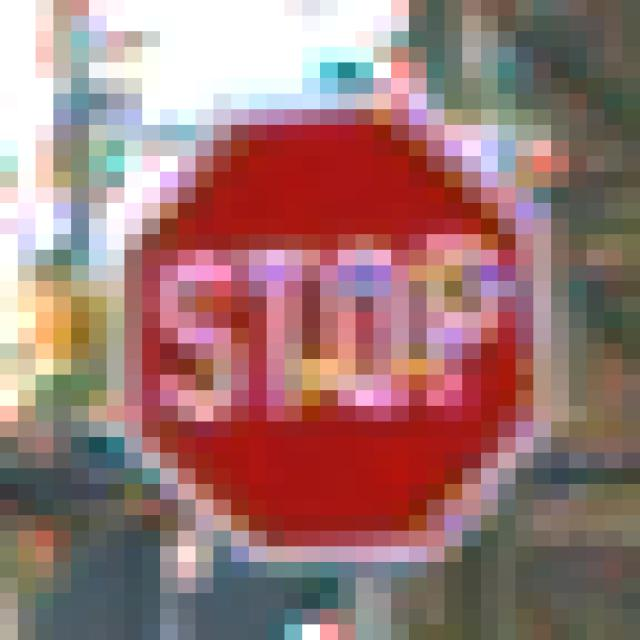STOP: (90, 95, 552, 563)
